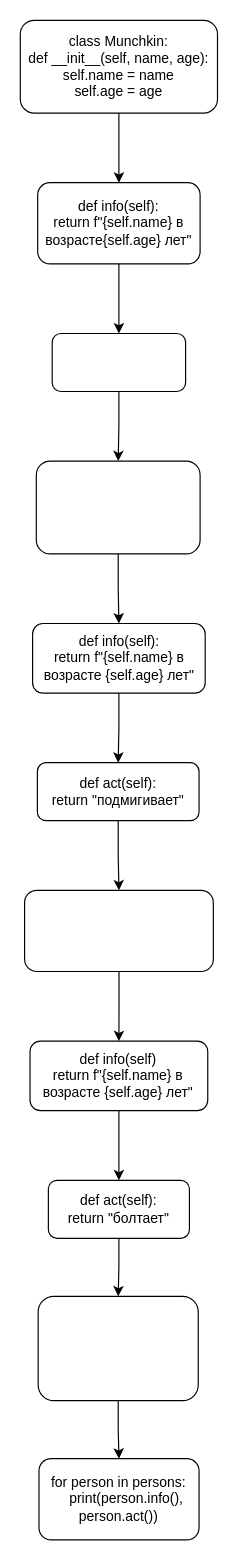
This 238x1560 diagram has some shape labels left out. The shapes that lost their labels are listed below. From the top down, each one's box as (x1, y1, x2, y2) in pixels, then its label:
(51, 332, 186, 392): def act(self): return "жуёт"
(35, 460, 200, 554): class Winkie: def __init__(self, name,age): self.name = name self.age = age
(23, 889, 213, 971): class Quadling: def __init__(self, name,age): self.name = name self.age = age
(37, 1295, 198, 1401): persons = [ Munchkin("Илья", 17), Winkie("Лев", 15), Quadling("Ольга", 16) ]
